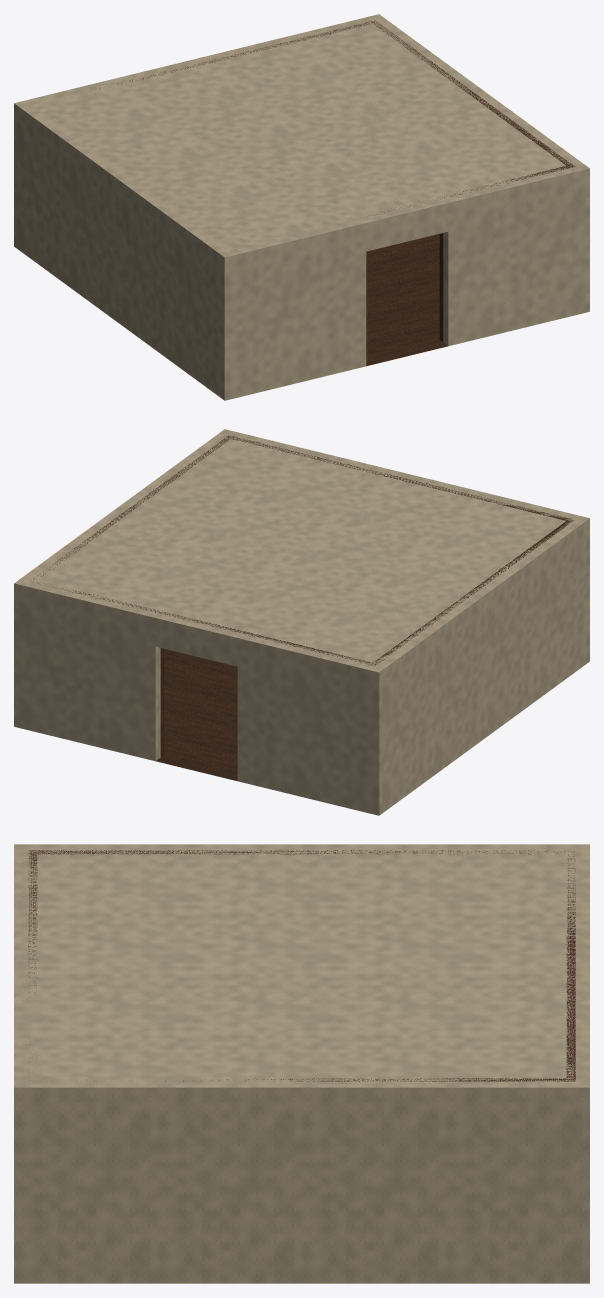
Rendered from SmallRoom.fbx.
3 views of the same model, one above another, from view 1: azimuth 30°, elevation 25°; view 2: azimuth 150°, elevation 25°; view 3: azimuth 270°, elevation 25° (orthographic). The views are drawn at different scales.
Visible parts, largest first — view 1: SM_SmallRoom.001; view 2: SM_SmallRoom.001; view 3: SM_SmallRoom.001.
Boxes of the visible parts, bbox=[...] form: SM_SmallRoom.001: bbox=[14, 14, 589, 400]; SM_SmallRoom.001: bbox=[14, 429, 589, 815]; SM_SmallRoom.001: bbox=[14, 844, 589, 1283].
Bounding box in the file's own units: 800 × 300 × 800.
Materials: 3 (3 with a texture image).
